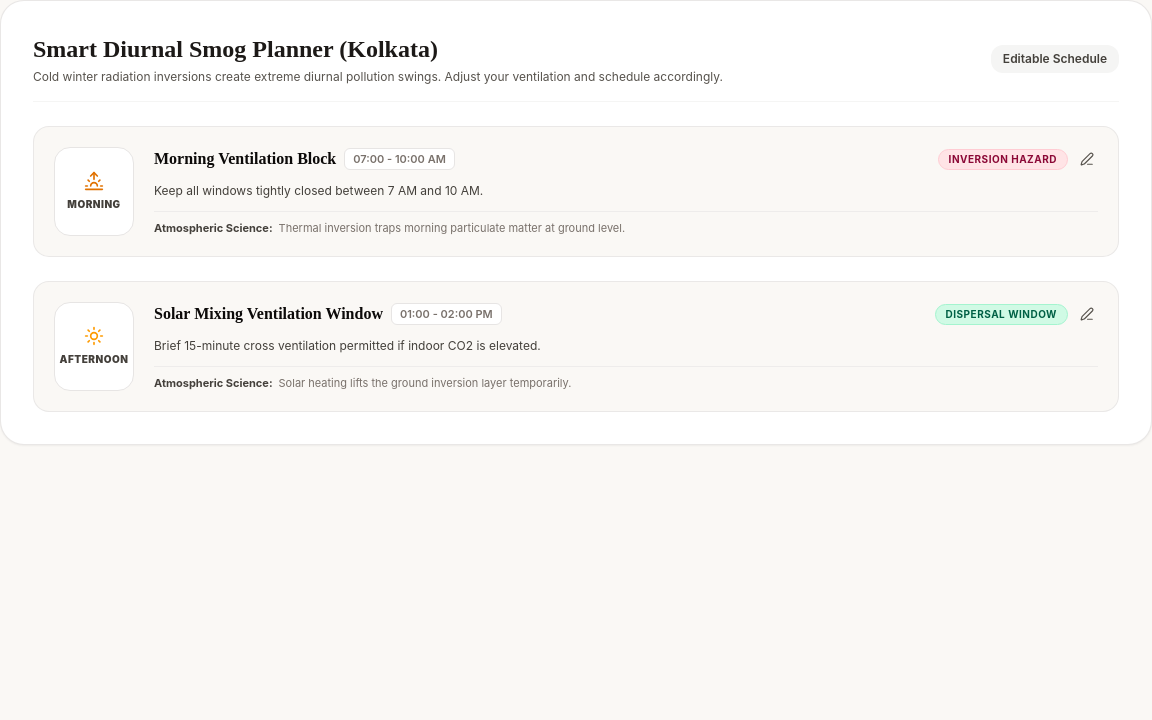
Frontend Component Suite: SmartDailyPlanner › renders timeline action titles, windows, and allows editing recommendations
Expected: the heading "Morning Ventilation Block" is shown, [154, 147, 336, 171]
Expected: the text "07:00 - 10:00 AM" is shown, [344, 148, 455, 170]
Click the button titled "Edit schedule note" at (1087, 159), box [1076, 148, 1098, 170]
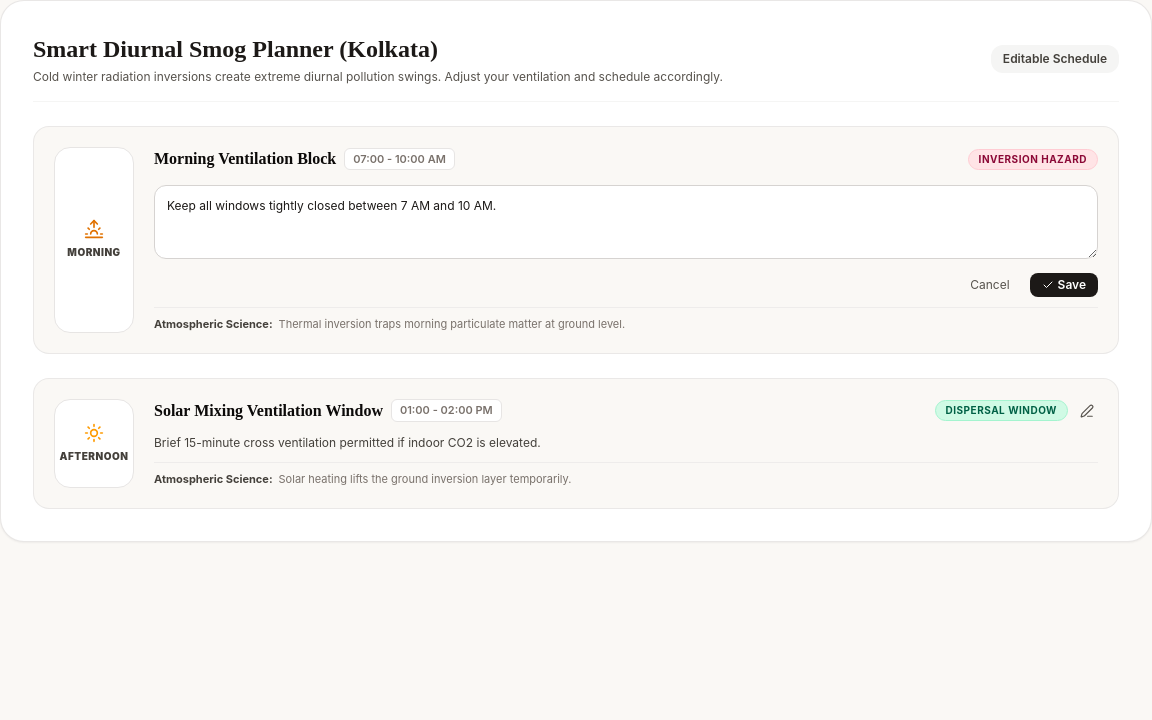
Expected: the text box is shown
Replace the text in the text box with "Updated: Keep room sealed and air purifier on." at (626, 222), box [154, 185, 1098, 259]
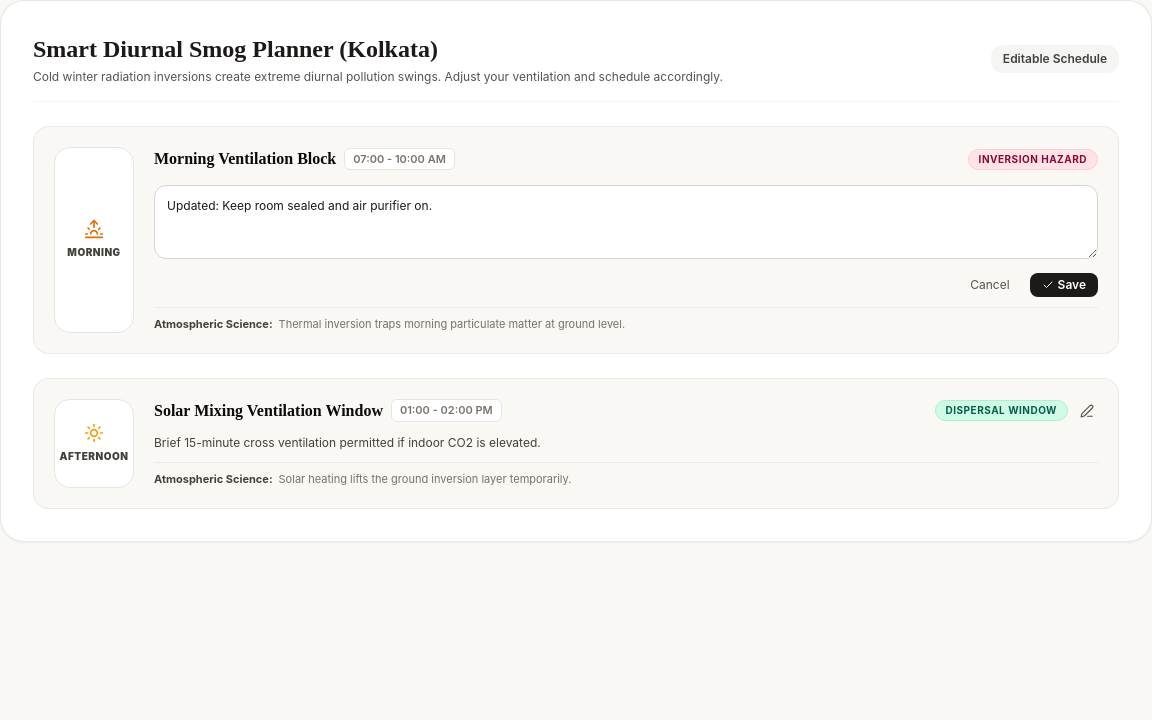
Click the button "Save" at (1064, 285), box [1030, 273, 1098, 297]
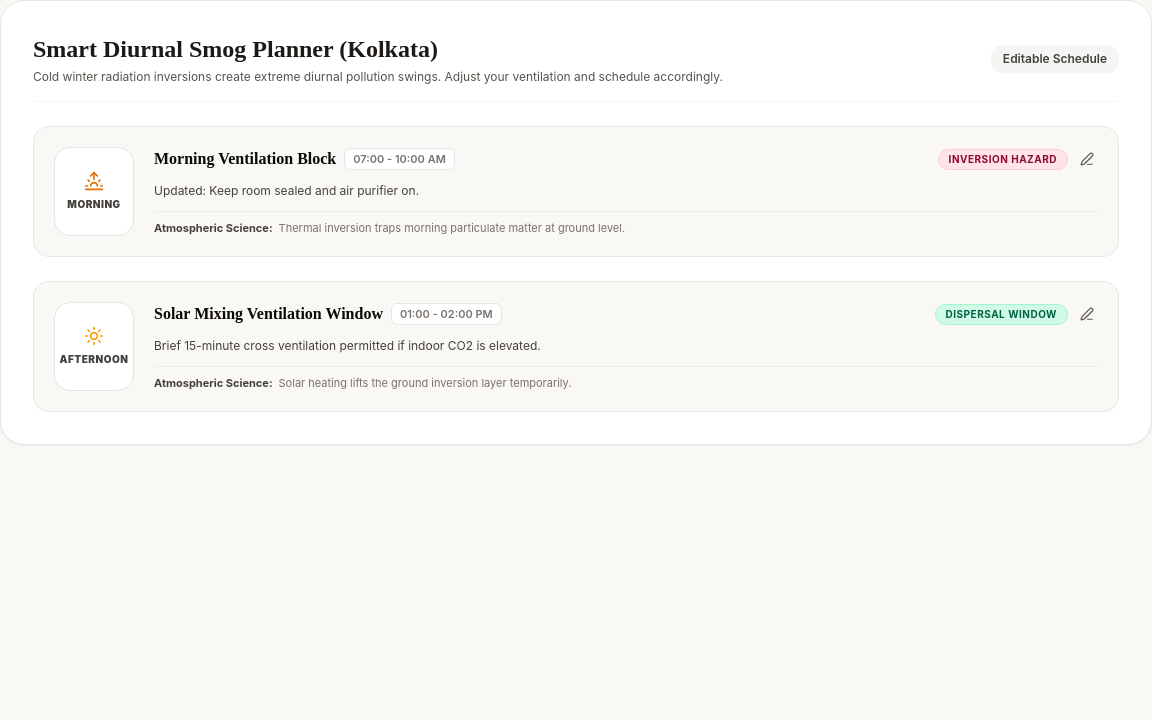
Expected: the text "Updated: Keep room sealed and air purifier on." is shown, [154, 183, 419, 198]
